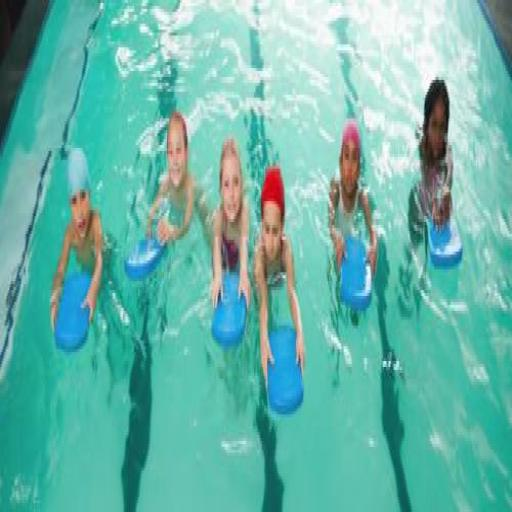swimming: (251, 160, 306, 390), (48, 142, 106, 340), (406, 74, 456, 249), (209, 133, 252, 317)
